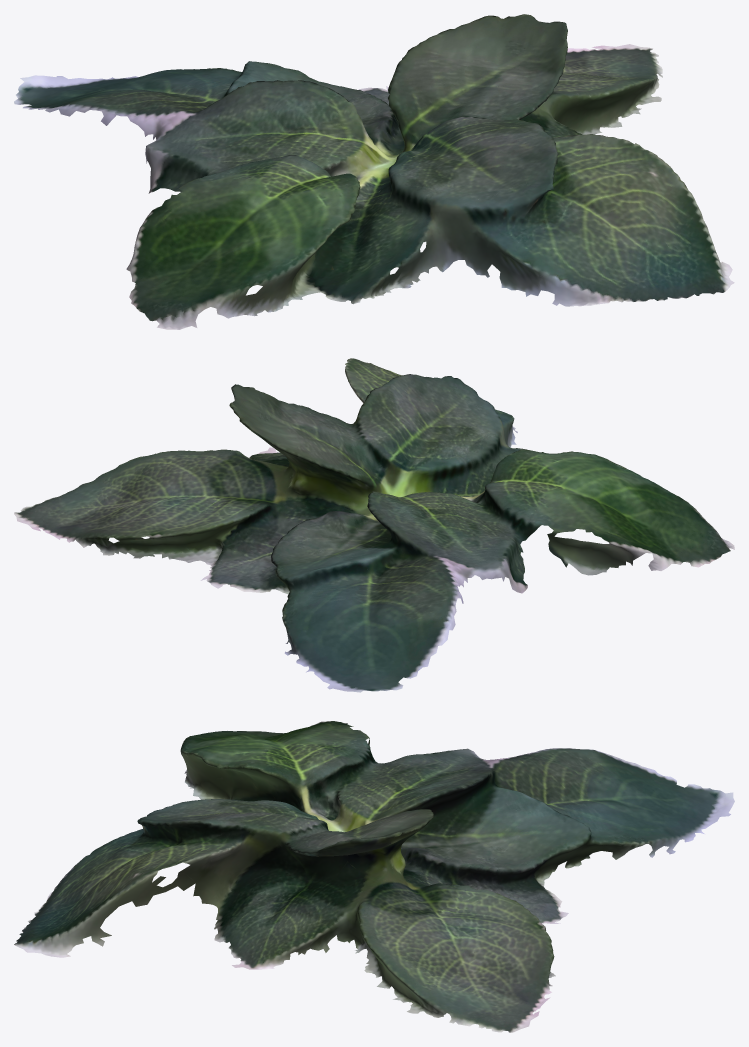
Rendered from Leaves.fbx.
The picture shows the model from 3 angles, top to bottom: view 1: azimuth 30°, elevation 25°; view 2: azimuth 150°, elevation 25°; view 3: azimuth 270°, elevation 25°; orthographic projection. The views are drawn at different scales.
Parts seen in each view (by area): view 1: Object; view 2: Object; view 3: Object.
Part boxes in pixels (x1=…): Object: x1=14, y1=14, x2=734, y2=329; Object: x1=14, y1=358, x2=734, y2=692; Object: x1=14, y1=721, x2=734, y2=1032.
Bounding box in the file's own units: 17.25 × 3.22 × 17.57.
